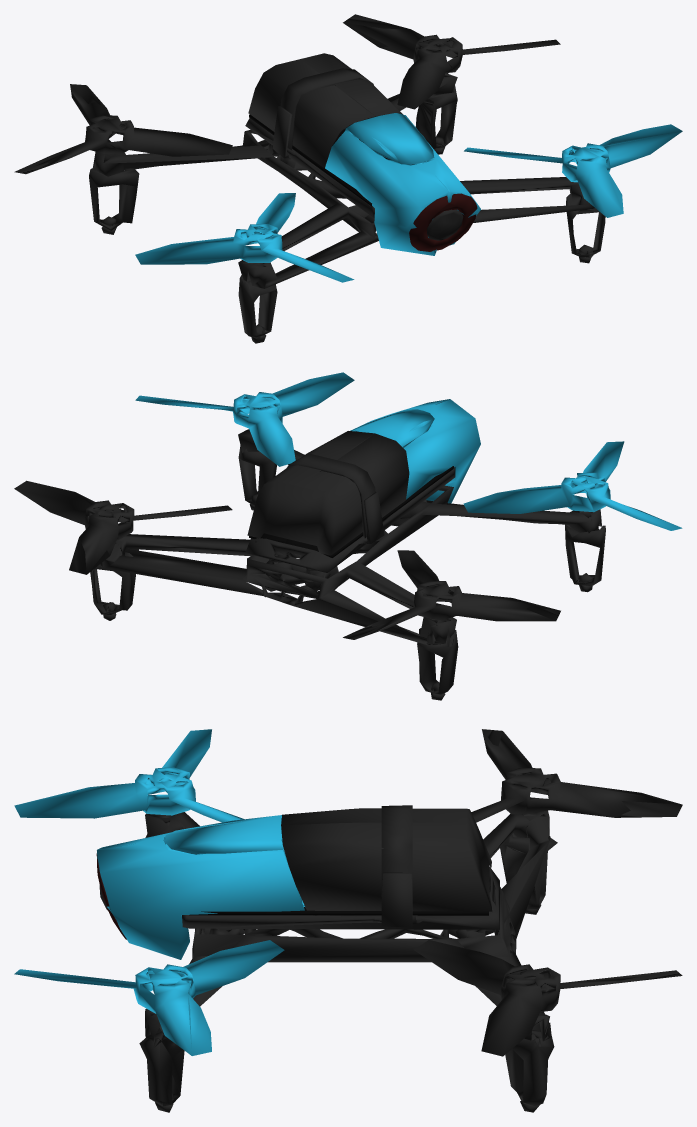
The model's file is Parrot Bebop.glb.
3 views of the same model, one above another, from view 1: azimuth 30°, elevation 25°; view 2: azimuth 150°, elevation 25°; view 3: azimuth 270°, elevation 25° (orthographic). The views are drawn at different scales.
Visible parts, largest first — view 1: frame, nose, battery, propeller_rl, propeller_fr, propeller_fl, propeller_rr, top, strap, lens_ring, pad_rr, pad_rl (+5 smaller); view 2: frame, battery, propeller_rr, propeller_fr, propeller_rl, propeller_fl, nose, frame_inside, strap, pad_rr, top, pad_fr (+3 smaller); view 3: battery, nose, frame, propeller_fl, propeller_rl, propeller_fr, propeller_rr, frame_inside, strap, top, pad_rl, pad_fl (+2 smaller).
Part boxes in pixels (box(x1,y1,x2,y2)): frame: box(92, 73, 594, 288); nose: box(325, 115, 481, 255); battery: box(248, 53, 403, 167); propeller_rl: box(343, 14, 560, 109); propeller_fr: box(135, 193, 354, 282); propeller_fl: box(464, 124, 682, 217); propeller_rr: box(14, 84, 232, 174); top: box(339, 113, 434, 164); strap: box(272, 68, 373, 158); lens_ring: box(409, 193, 477, 251); pad_rr: box(89, 168, 139, 234); pad_rl: box(415, 85, 457, 154); frame: box(100, 429, 601, 645); battery: box(247, 431, 409, 555); propeller_rr: box(343, 550, 560, 639); propeller_fr: box(463, 441, 682, 530); propeller_rl: box(14, 480, 232, 574); propeller_fl: box(135, 372, 354, 466); nose: box(403, 399, 480, 503); frame_inside: box(245, 467, 455, 572); strap: box(287, 453, 384, 543); pad_rr: box(417, 628, 458, 700); top: box(350, 409, 434, 447); pad_fr: box(565, 524, 605, 592); battery: box(281, 808, 492, 911); nose: box(97, 832, 304, 959); frame: box(145, 810, 551, 1041); propeller_fl: box(14, 940, 284, 1055); propeller_rl: box(413, 940, 682, 1056); propeller_fr: box(14, 729, 244, 822); propeller_rr: box(471, 729, 682, 822); frame_inside: box(182, 866, 499, 931); strap: box(381, 805, 412, 927); top: box(165, 815, 302, 902); pad_rl: box(505, 1030, 554, 1112); pad_fl: box(139, 1031, 184, 1112).
Bounding box in the file's own units: 3.23 × 0.8806 × 2.8.
